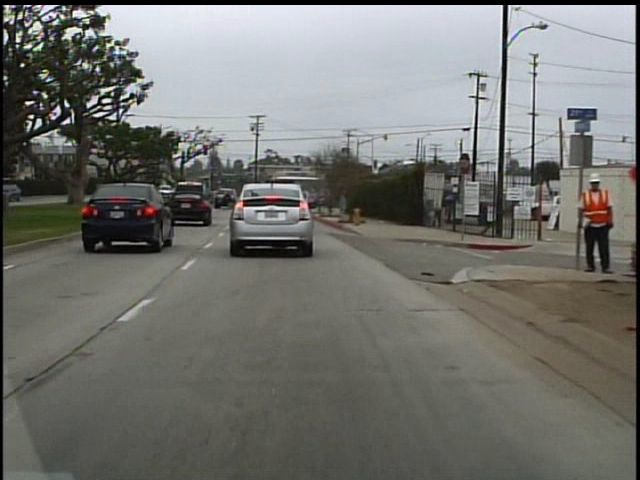person: (568, 166, 611, 278)
